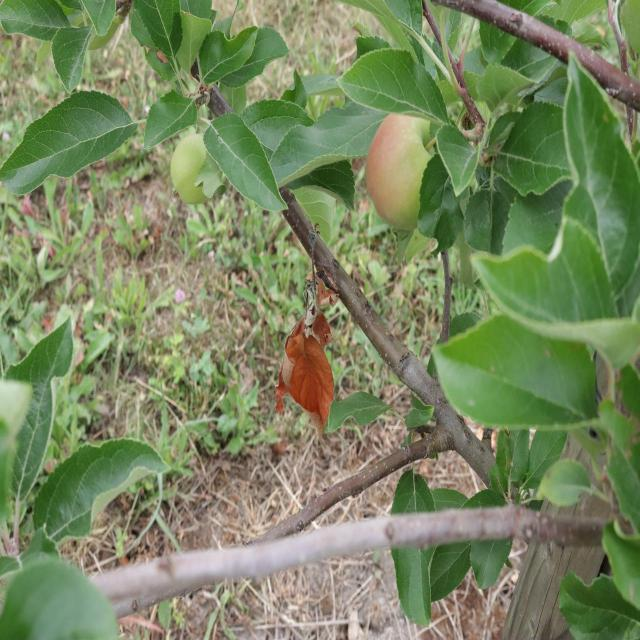-FireBlight-: (284, 236, 337, 429)
